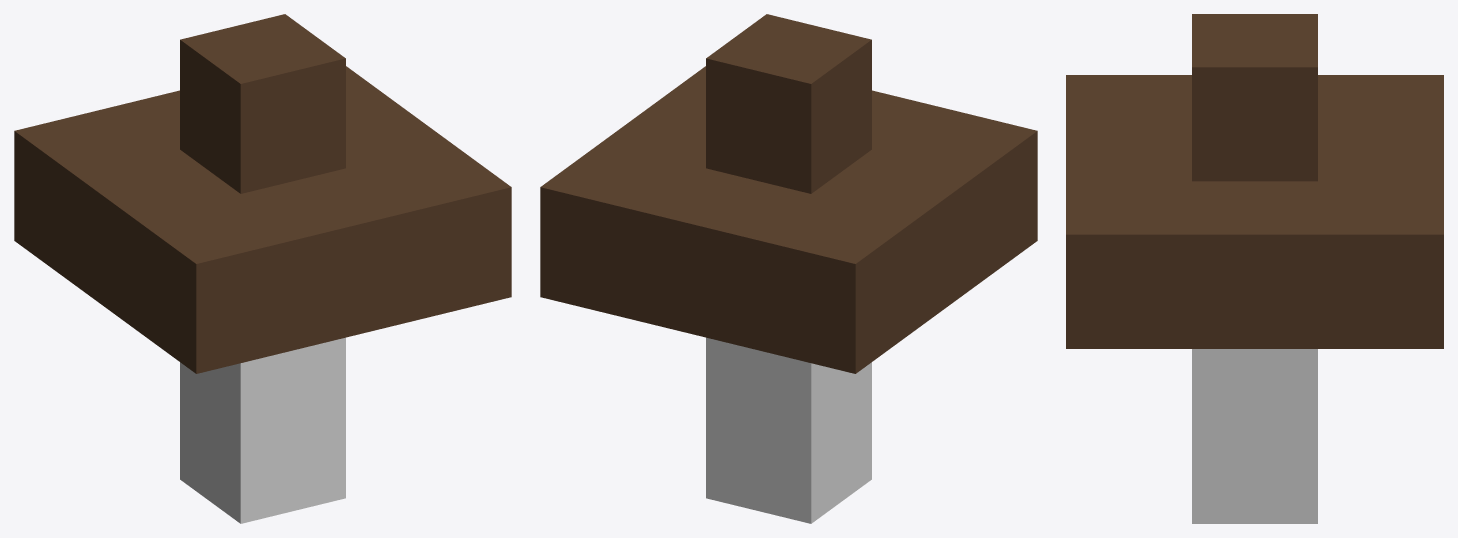
Rendered from fungus1.fbx.
3 views of the same model, side by side, from view 1: azimuth 30°, elevation 25°; view 2: azimuth 150°, elevation 25°; view 3: azimuth 270°, elevation 25° (orthographic). The views are drawn at different scales.
Visible parts, largest first — view 1: Cube; view 2: Cube; view 3: Cube.
Boxes of the visible parts, x1,y1,x2,y2 form: Cube: (14, 14, 511, 523); Cube: (540, 14, 1037, 523); Cube: (1066, 14, 1443, 523).
Size of the model in its own units: 300 by 400 by 300.
